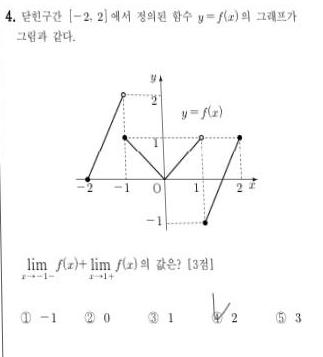choice: (208, 303, 226, 325)
not-choice: (273, 309, 288, 325), (82, 309, 96, 324), (146, 310, 160, 325), (18, 310, 32, 324)
